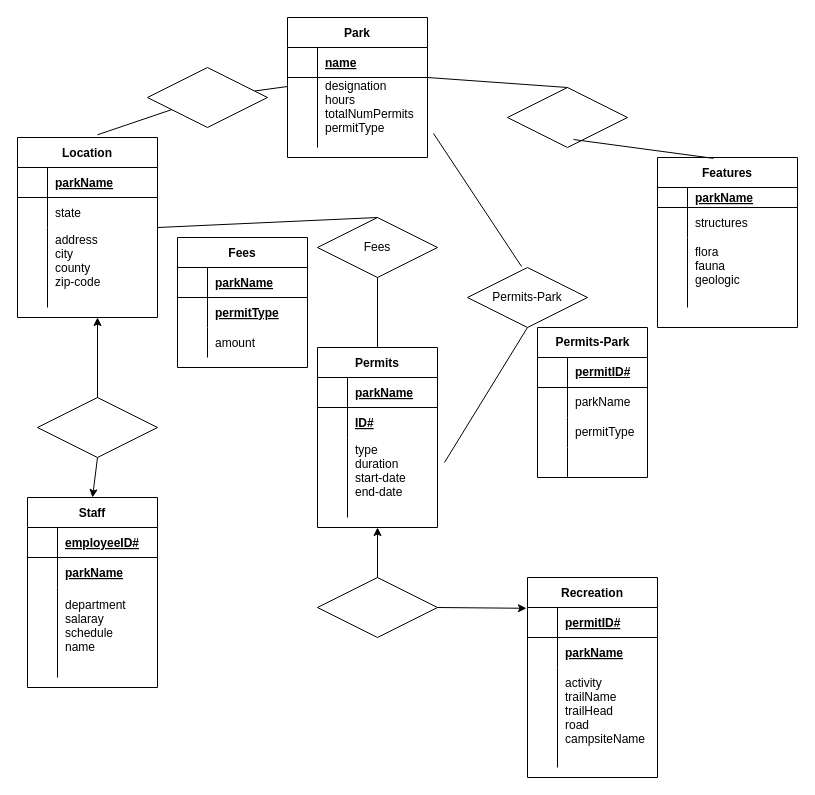
Image size: 815x795. Some labels were removed from this diagram. The shapes that lost their labels are listed below. From the top down, each one's centre as x and y in pixels, then its label:
At (207,97): "Located At".
At (567,117): "Possess".
At (97,427): "Place of Work".
At (377,607): "Allows".
